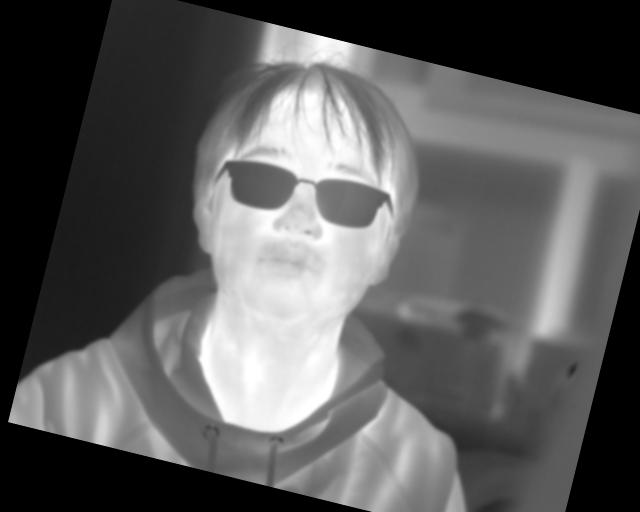face: (156, 32, 445, 351)
